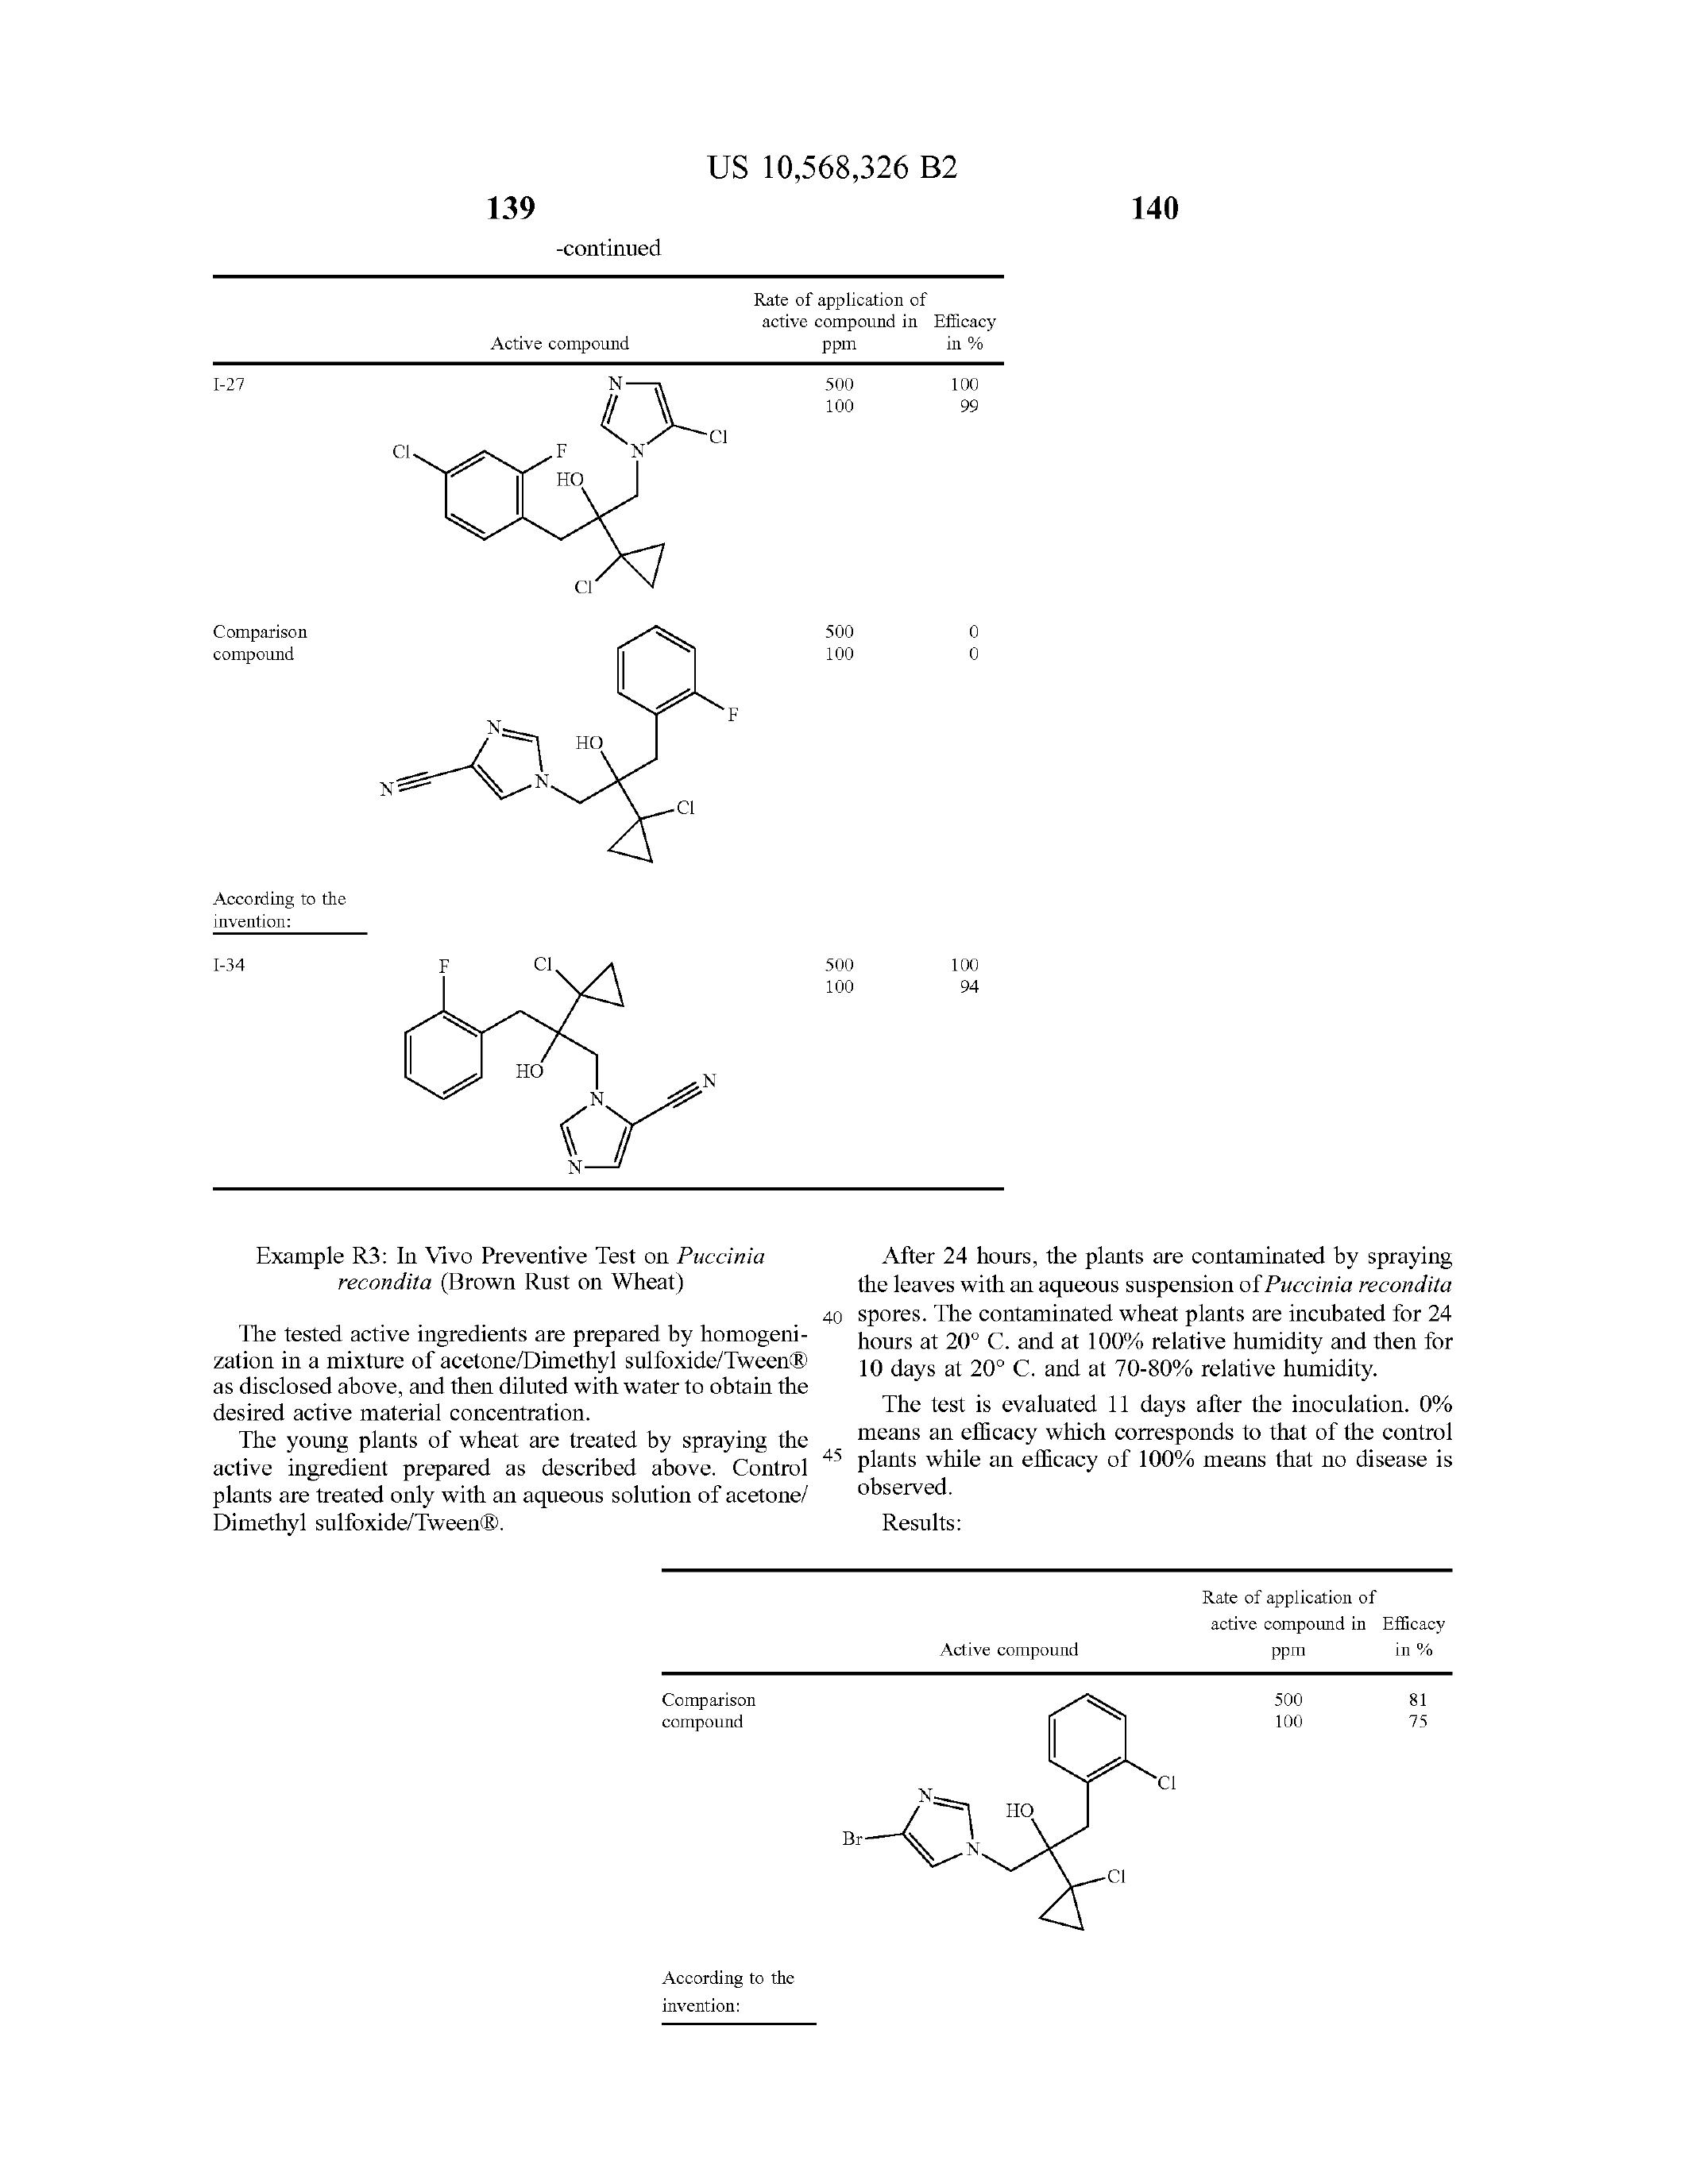relevant-structures: (817, 1689, 1223, 1984), (358, 899, 770, 1181), (344, 626, 777, 869), (378, 365, 757, 624)
